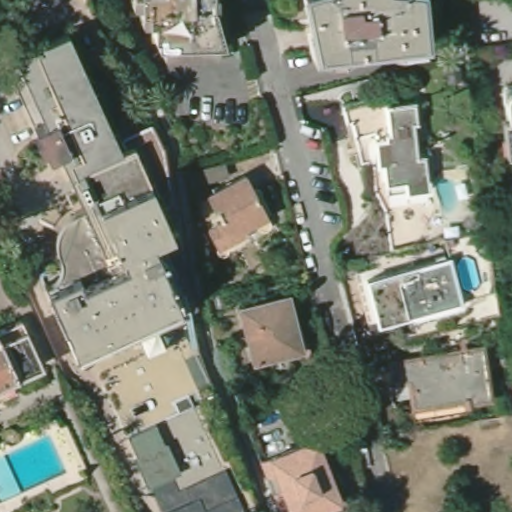pool: (1, 432, 69, 504), (455, 253, 483, 291), (432, 179, 461, 212)
